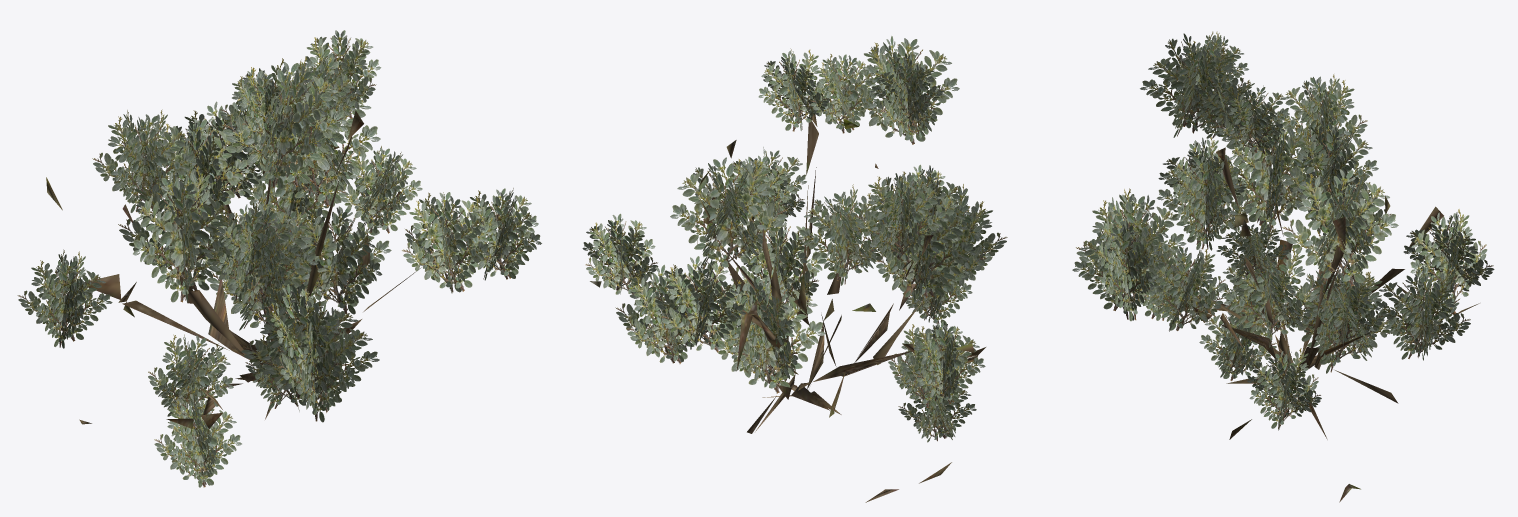
The model's file is bush2.glb.
3 renders of one model, left to right at view 1: azimuth 30°, elevation 25°; view 2: azimuth 150°, elevation 25°; view 3: azimuth 270°, elevation 25°, orthographic. The views are drawn at different scales.
Visible parts, largest first — view 1: cards, LO.001; view 2: cards, LO.001; view 3: cards, LO.001.
Boxes of the visible parts, left/top/right/bottom form: cards: left=17, top=30, right=541, bottom=487; LO.001: left=46, top=67, right=521, bottom=428; cards: left=582, top=36, right=1007, bottom=442; LO.001: left=590, top=107, right=985, bottom=502; cards: left=1072, top=31, right=1494, bottom=430; LO.001: left=1193, top=147, right=1479, bottom=502.
Size of the model in its own units: 0.8741 by 0.7493 by 0.7704.
Materials: 2 (2 with a texture image).
